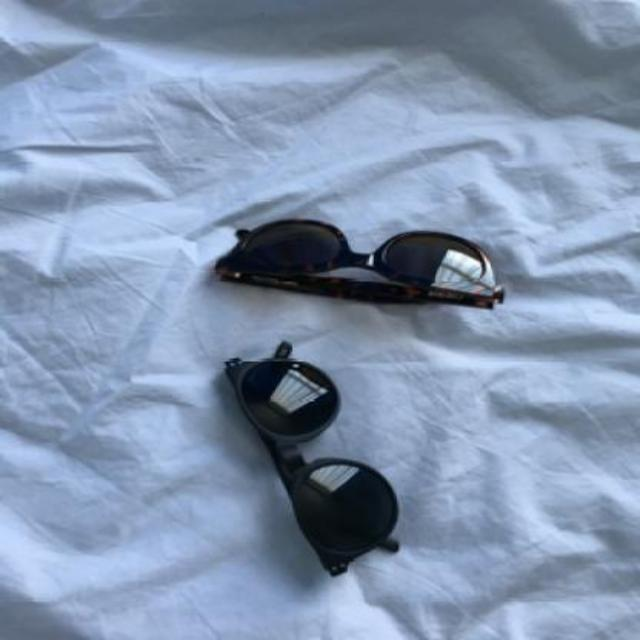glasses: (220, 341, 402, 579), (212, 217, 504, 309)
